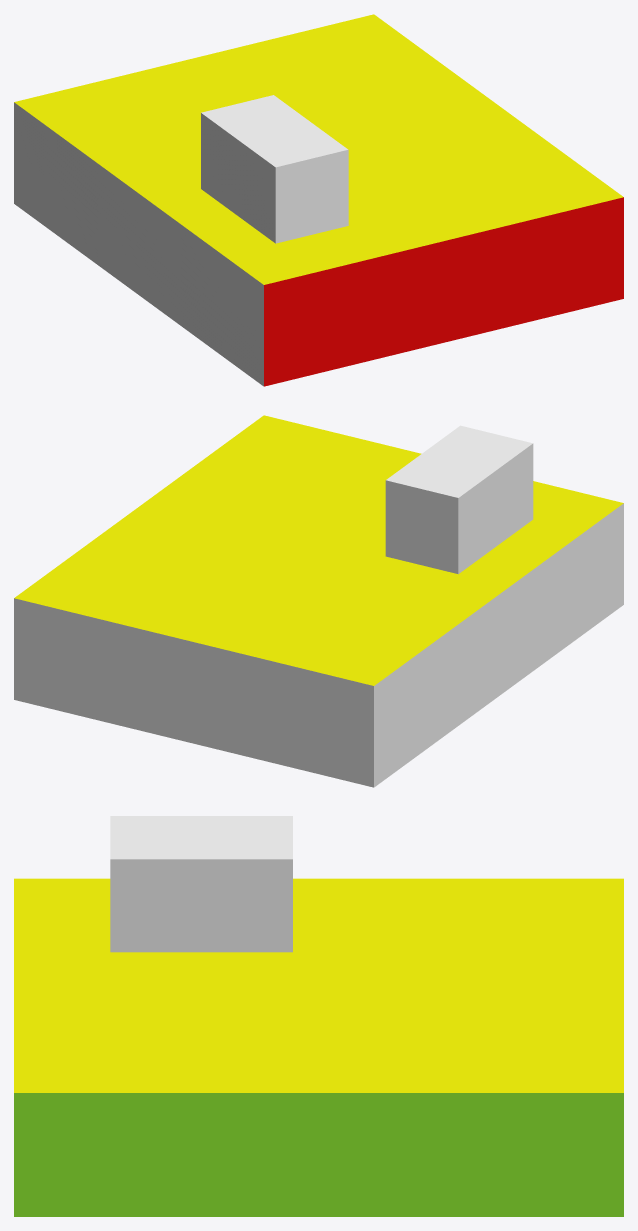
File: skpBOX.dae
3 views of the same model, one above another, from view 1: azimuth 30°, elevation 25°; view 2: azimuth 150°, elevation 25°; view 3: azimuth 270°, elevation 25° (orthographic). The views are drawn at different scales.
Visible parts, largest first — view 1: SketchUp (×4); view 2: SketchUp (×3); view 3: SketchUp (×3).
Boxes of the visible parts, box(x1,y1,x2,y2) form: SketchUp (×4): box(14, 14, 623, 386); SketchUp (×3): box(14, 415, 623, 787); SketchUp (×3): box(14, 816, 623, 1216).
Bounding box in the file's own units: 70.08 × 84.25 × 33.07.
